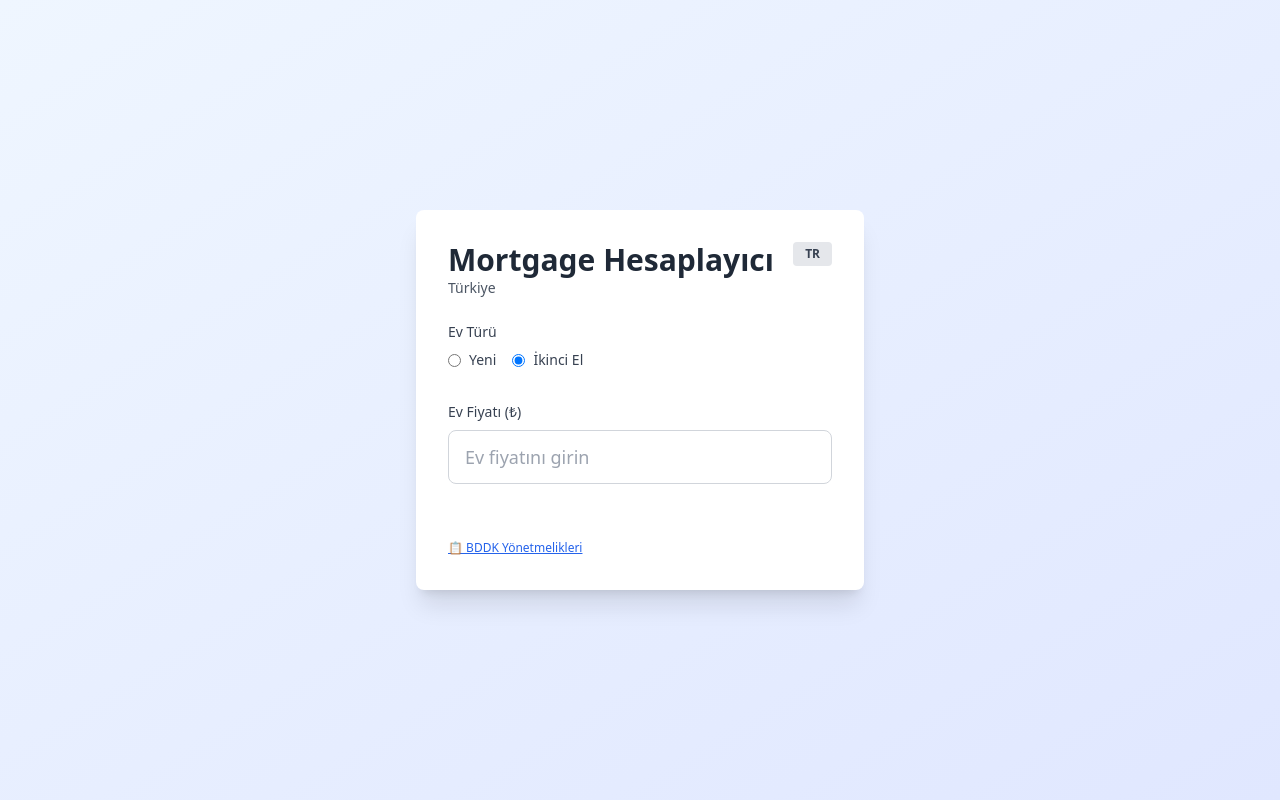
Test: App › shows loan amount and down payment after entering price
Type "1000000" into the number field labelled "Ev Fiyatı (₺)" at [640, 457], box [448,430,832,484]
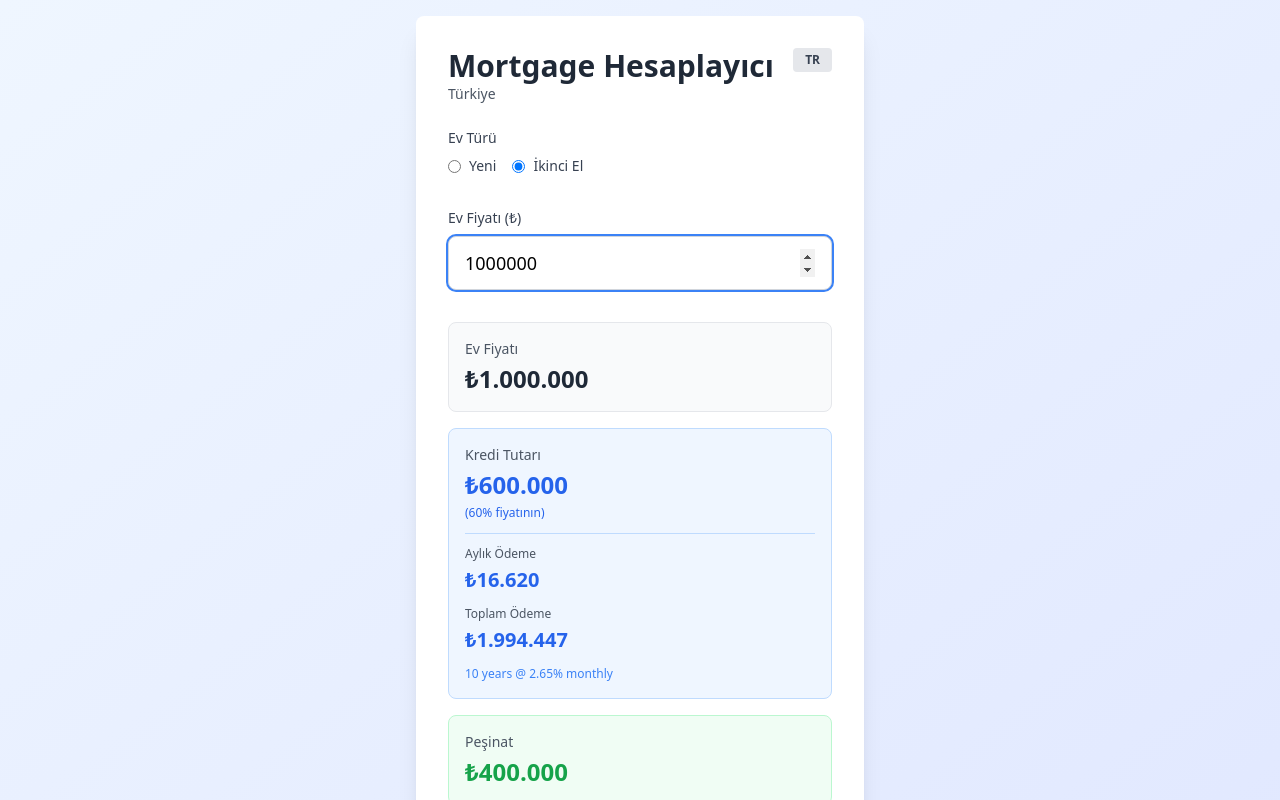
Result: the text "Kredi Tutarı" is shown at [465,445,541,464]
Result: the text "Peşinat" is shown at [465,732,513,751]
